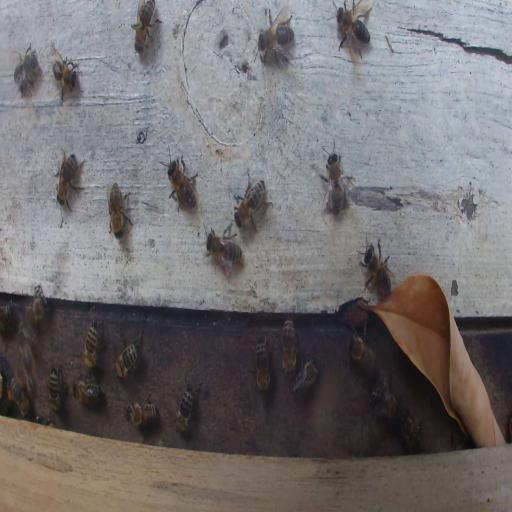bee: (318, 139, 358, 218), (331, 0, 373, 63), (257, 6, 296, 67), (164, 146, 198, 214), (53, 147, 85, 213), (233, 174, 270, 230), (204, 220, 242, 274), (360, 238, 394, 293), (174, 374, 202, 434), (12, 41, 41, 96), (132, 0, 160, 56), (113, 326, 142, 380), (106, 180, 132, 238), (52, 53, 80, 103), (290, 357, 320, 398), (347, 333, 377, 373), (370, 379, 399, 419), (19, 336, 39, 393), (6, 372, 30, 418), (126, 394, 158, 428), (25, 283, 48, 330), (252, 336, 270, 392), (400, 411, 422, 454), (281, 317, 297, 375), (73, 379, 101, 407), (48, 364, 62, 414), (84, 321, 98, 371), (0, 301, 14, 332), (35, 411, 53, 424)
